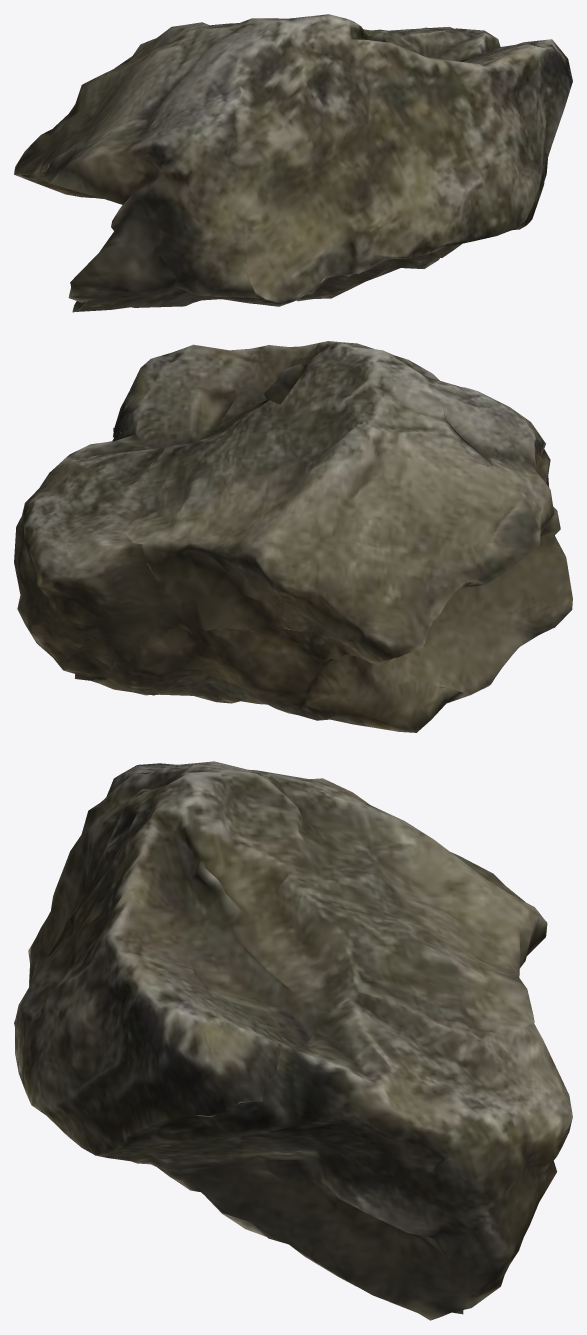
The model's file is rock_moss_set_02_3.glb.
3 renders of one model, top to bottom at view 1: azimuth 30°, elevation 25°; view 2: azimuth 150°, elevation 25°; view 3: azimuth 270°, elevation 25°, orthographic. The views are drawn at different scales.
Visible parts, largest first — view 1: rock_moss_set_02_rock11; view 2: rock_moss_set_02_rock11; view 3: rock_moss_set_02_rock11.
Part boxes in pixels (bbox=[...]): rock_moss_set_02_rock11: bbox=[14, 14, 572, 312]; rock_moss_set_02_rock11: bbox=[14, 341, 572, 732]; rock_moss_set_02_rock11: bbox=[14, 761, 572, 1320].
Size of the model in its own units: 1.95 by 1.3 by 1.53.
1 material, 1 textured.
